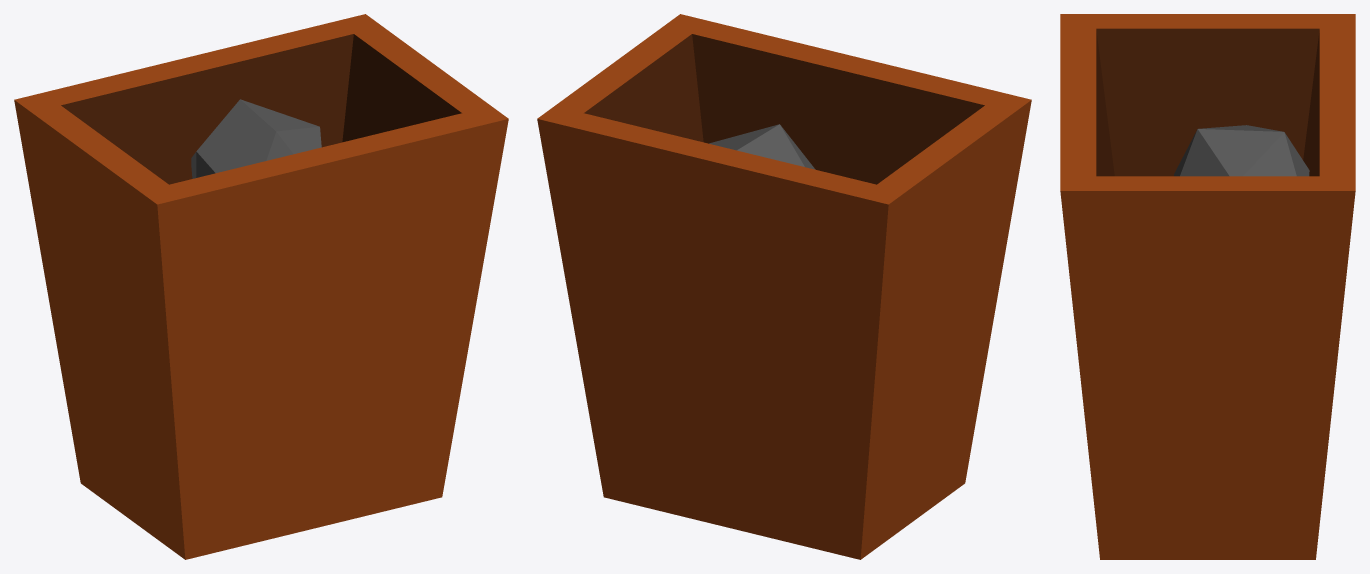
The model's file is Dustbox.fbx.
The picture shows the model from 3 angles, left to right: view 1: azimuth 30°, elevation 25°; view 2: azimuth 150°, elevation 25°; view 3: azimuth 270°, elevation 25°; orthographic projection. The views are drawn at different scales.
Visible parts, largest first — view 1: Dustbox; view 2: Dustbox; view 3: Dustbox.
Part boxes in pixels (x1,y1,x2,y2): Dustbox: [14, 14, 508, 559]; Dustbox: [537, 14, 1031, 559]; Dustbox: [1060, 14, 1355, 559].
Bounding box in the file's own units: 0.0137 × 0.0142 × 0.00966.
